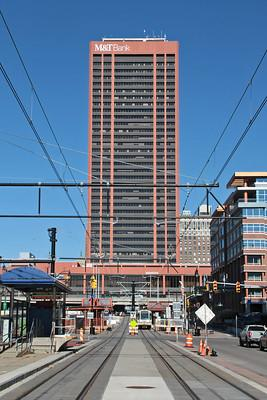building: (84, 31, 182, 328)
